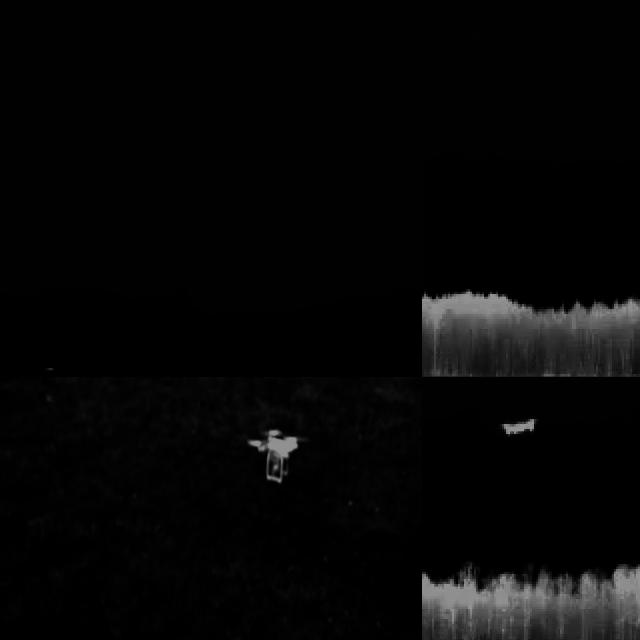0: (29, 353, 75, 377)
1: (490, 412, 550, 446)
drone: (246, 430, 303, 483)
